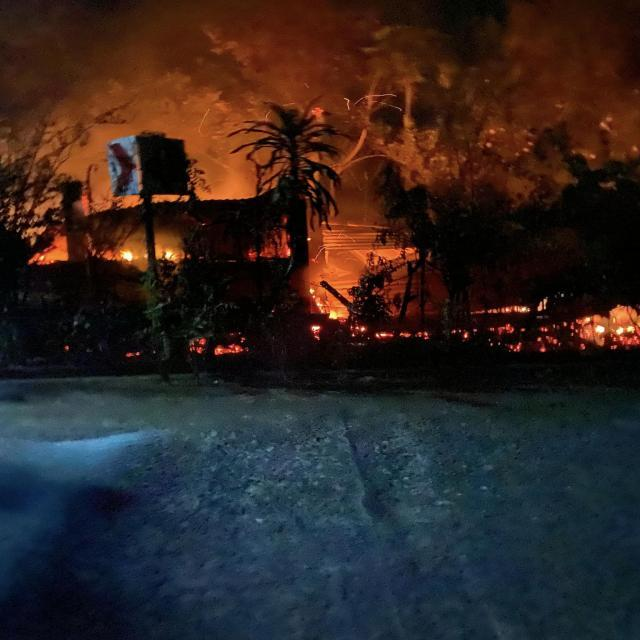Fire: (303, 290, 349, 328), (592, 315, 638, 340), (117, 244, 140, 264), (159, 245, 179, 262)
